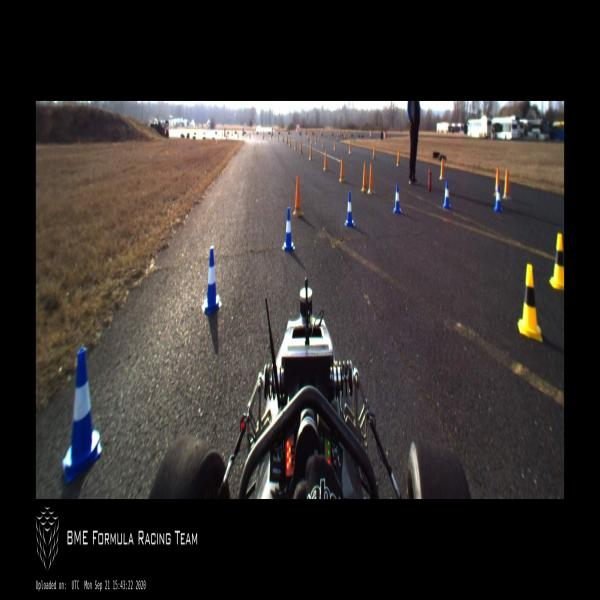blue_cone: (62, 347, 102, 484), (202, 246, 222, 314), (282, 206, 295, 252), (344, 190, 355, 226), (392, 183, 402, 214), (442, 179, 451, 210), (494, 184, 502, 212)
unknown_cone: (292, 174, 303, 216), (366, 162, 375, 195), (502, 169, 511, 200), (360, 161, 368, 192), (492, 167, 500, 196), (338, 157, 346, 182), (439, 158, 445, 180), (322, 150, 327, 171), (396, 150, 400, 168), (308, 144, 312, 161), (372, 144, 376, 160), (299, 140, 303, 154), (348, 141, 352, 154), (294, 138, 297, 151), (333, 138, 336, 150)
yellow_cone: (518, 262, 542, 342), (549, 232, 564, 291)
